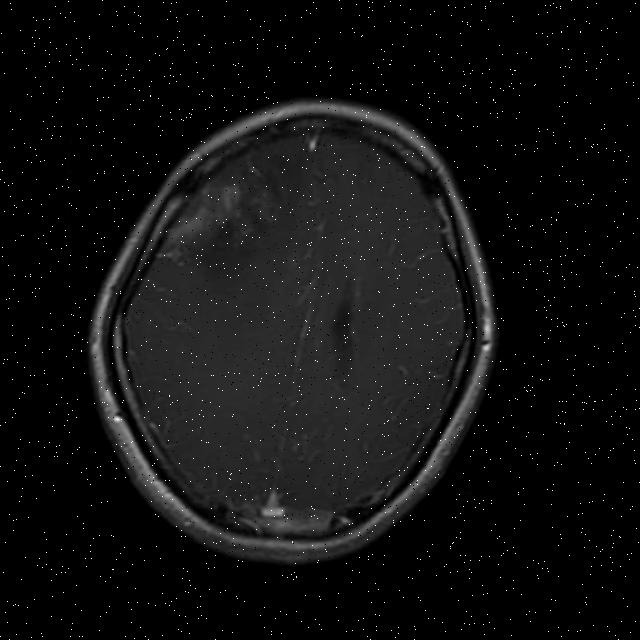Glioma: (148, 162, 285, 262)
